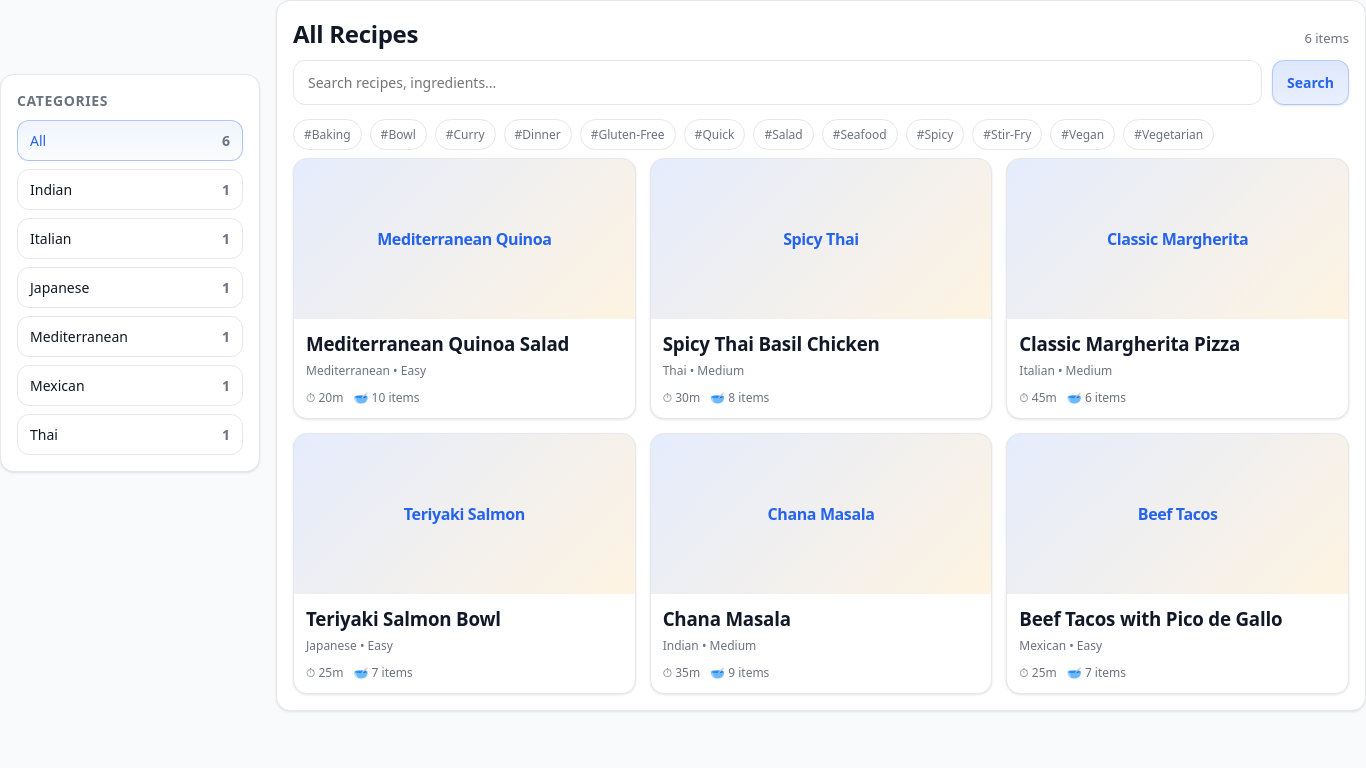
Test case: clicking a category sets active state and filters list
Expected: the heading "All Recipes" is shown, [293,17,418,50]
// Click Italian
Click the button "Italian 1" at (130, 238), box [17,218,243,259]
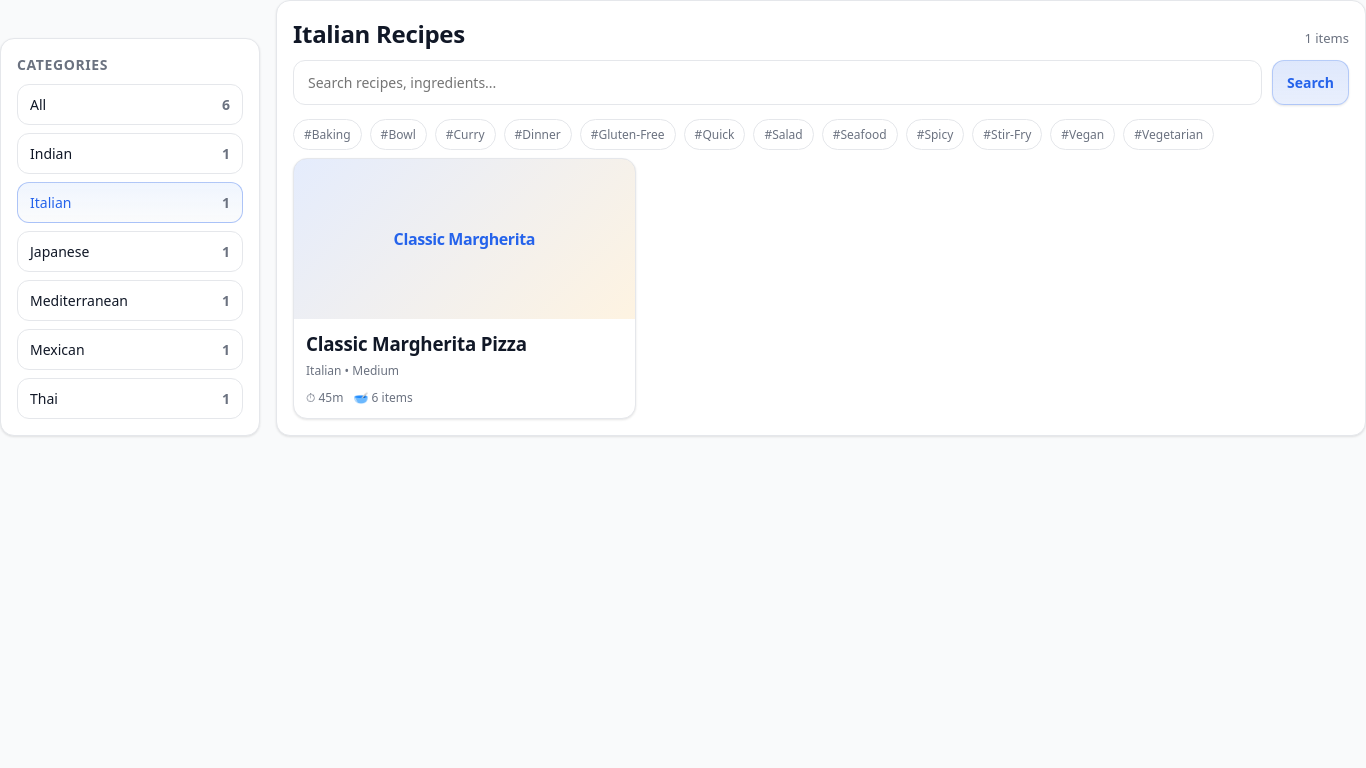
Now the heading "Italian Recipes" is shown, box [293,17,465,50]
Now the text "1 items" is shown, box [1304,29,1349,47]
